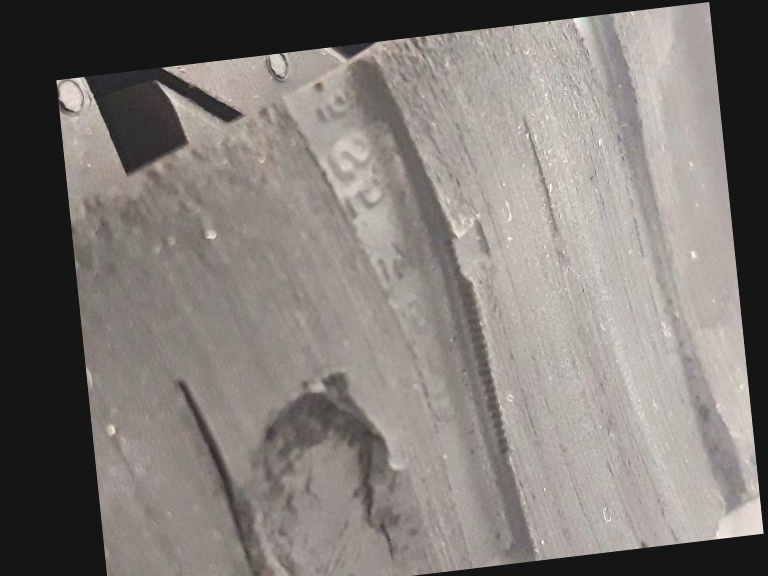temoin:0: (435, 206, 509, 304)
